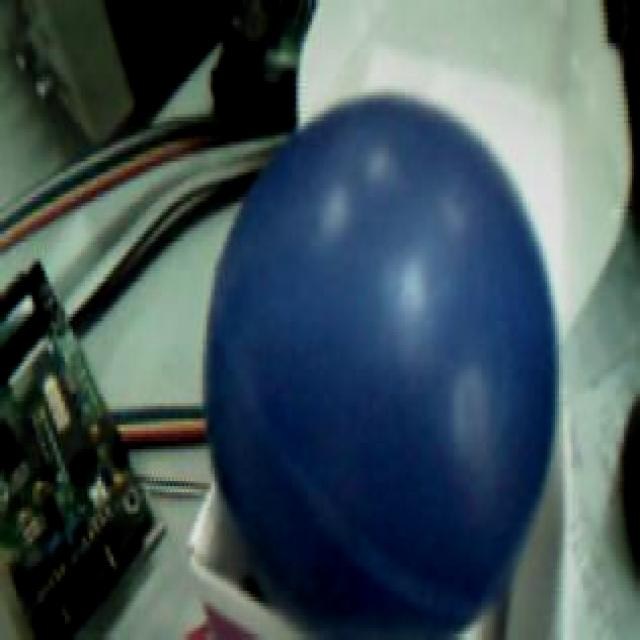BallPurple: (204, 93, 559, 640)
